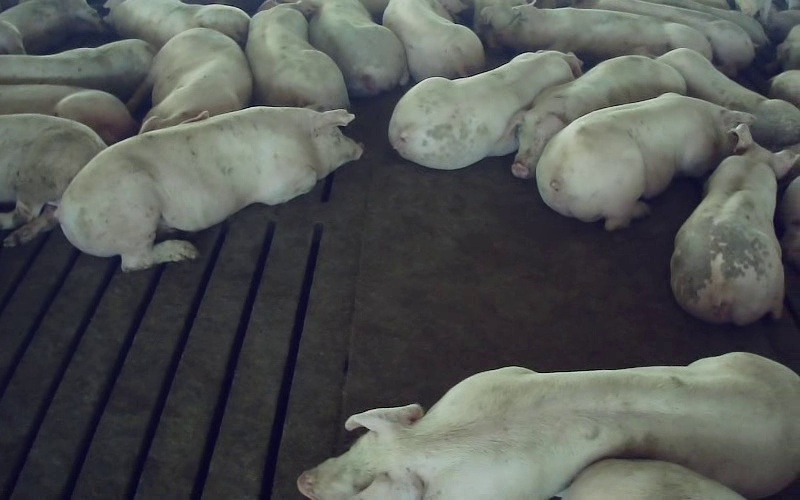pig: (298, 353, 799, 499), (59, 107, 360, 270), (536, 93, 752, 229), (671, 124, 797, 324), (389, 51, 580, 169), (512, 55, 685, 177), (658, 48, 799, 148), (0, 115, 105, 245), (127, 28, 251, 132), (500, 5, 711, 62), (246, 0, 349, 110), (309, 0, 408, 96), (0, 39, 153, 100), (383, 0, 484, 81), (106, 0, 249, 48), (0, 0, 103, 53)
